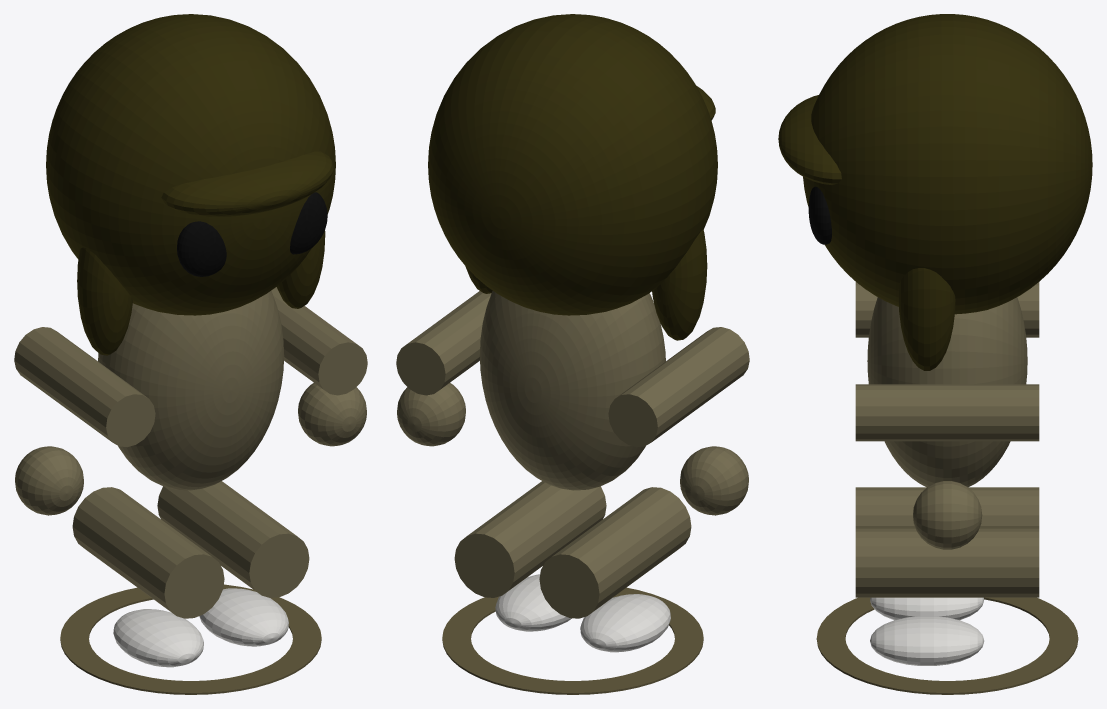
File: mascot.glb
3 renders of one model, left to right at view 1: azimuth 30°, elevation 25°; view 2: azimuth 150°, elevation 25°; view 3: azimuth 270°, elevation 25°, orthographic.
Visible parts, largest first — view 1: hair_cap, torso, leg_-1, leg_1, arm_-1, halo, bangs, arm_1, sidelock_-1, foot_-1, hand_-1, foot_1 (+4 smaller); view 2: hair_cap, torso, leg_-1, leg_1, arm_-1, halo, arm_1, foot_-1, hand_-1, sidelock_-1, hand_1, foot_1; view 3: hair_cap, torso, leg_1, arm_1, halo, leg_-1, sidelock_1, foot_1, hand_1, bangs, foot_-1, arm_-1 (+1 smaller).
Part boxes in pixels (bbox=[...]): hair_cap: bbox=[46, 14, 335, 315]; torso: bbox=[98, 291, 284, 490]; leg_-1: bbox=[72, 487, 224, 618]; leg_1: bbox=[157, 481, 309, 597]; arm_-1: bbox=[14, 327, 155, 447]; halo: bbox=[60, 584, 321, 694]; bangs: bbox=[161, 151, 333, 216]; arm_1: bbox=[271, 287, 367, 395]; sidelock_-1: bbox=[77, 247, 132, 355]; foot_-1: bbox=[113, 609, 203, 667]; hand_-1: bbox=[15, 446, 83, 515]; foot_1: bbox=[199, 588, 288, 646]; hair_cap: bbox=[428, 14, 717, 315]; torso: bbox=[479, 291, 665, 490]; leg_-1: bbox=[539, 487, 691, 618]; leg_1: bbox=[454, 481, 606, 597]; arm_-1: bbox=[608, 327, 749, 447]; halo: bbox=[442, 587, 703, 694]; arm_1: bbox=[396, 291, 491, 395]; foot_-1: bbox=[580, 594, 670, 652]; hand_-1: bbox=[680, 446, 748, 515]; sidelock_-1: bbox=[652, 229, 707, 340]; hand_1: bbox=[397, 383, 465, 446]; foot_1: bbox=[495, 574, 571, 631]; hair_cap: bbox=[803, 14, 1092, 314]; torso: bbox=[867, 297, 1027, 487]; leg_1: bbox=[855, 528, 1039, 597]; arm_1: bbox=[855, 384, 1039, 441]; halo: bbox=[816, 597, 1078, 694]; leg_-1: bbox=[855, 487, 1039, 528]; sidelock_1: bbox=[898, 268, 955, 370]; foot_1: bbox=[870, 616, 984, 665]; hand_1: bbox=[913, 481, 982, 549]; bangs: bbox=[778, 95, 841, 184]; foot_-1: bbox=[870, 597, 984, 620]; arm_-1: bbox=[855, 282, 1039, 337].
Bounding box in the file's own units: 0.9688 × 1.65 × 0.769.
